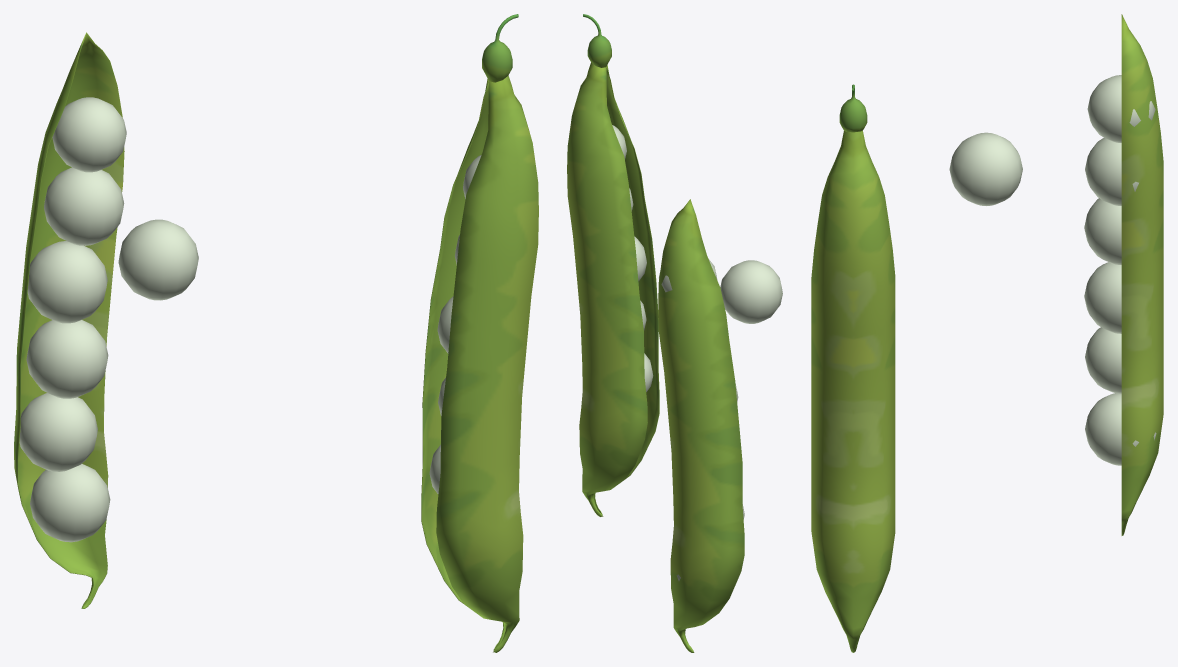
Rendered from beans.FBX.
3 renders of one model, left to right at view 1: azimuth 30°, elevation 25°; view 2: azimuth 150°, elevation 25°; view 3: azimuth 270°, elevation 25°, orthographic. The views are drawn at different scales.
Visible parts, largest first — view 1: bean_cut, bean_half, bean_sphere3, bean_sphere4, Sphere007, bean_sphere2, bean_sphere5, bean_sphere6, bean_sphere1; view 2: bean_cut, bean_half, Sphere007; view 3: bean_cut, bean_half, Sphere007, bean_sphere6, bean_sphere4, bean_sphere1, bean_sphere2, bean_sphere3, bean_sphere5.
Part boxes in pixels (bbox=[...]): bean_cut: bbox=[421, 14, 538, 652]; bean_half: bbox=[14, 32, 124, 608]; bean_sphere3: bbox=[27, 241, 107, 323]; bean_sphere4: bbox=[26, 320, 108, 398]; Sphere007: bbox=[118, 219, 198, 300]; bean_sphere2: bbox=[44, 167, 124, 245]; bean_sphere5: bbox=[19, 393, 97, 471]; bean_sphere6: bbox=[30, 464, 110, 542]; bean_sphere1: bbox=[52, 97, 126, 172]; bean_cut: bbox=[567, 14, 659, 516]; bean_half: bbox=[658, 199, 744, 652]; Sphere007: bbox=[720, 260, 782, 323]; bean_cut: bbox=[811, 84, 895, 652]; bean_half: bbox=[1121, 14, 1163, 535]; Sphere007: bbox=[949, 132, 1022, 205]; bean_sphere6: bbox=[1085, 393, 1156, 465]; bean_sphere4: bbox=[1084, 262, 1121, 333]; bean_sphere1: bbox=[1087, 75, 1155, 142]; bean_sphere2: bbox=[1085, 138, 1138, 205]; bean_sphere3: bbox=[1084, 198, 1121, 264]; bean_sphere5: bbox=[1085, 327, 1121, 393].
Size of the model in its own units: 31.42 by 51.34 by 28.5.
2 materials, 1 textured.
